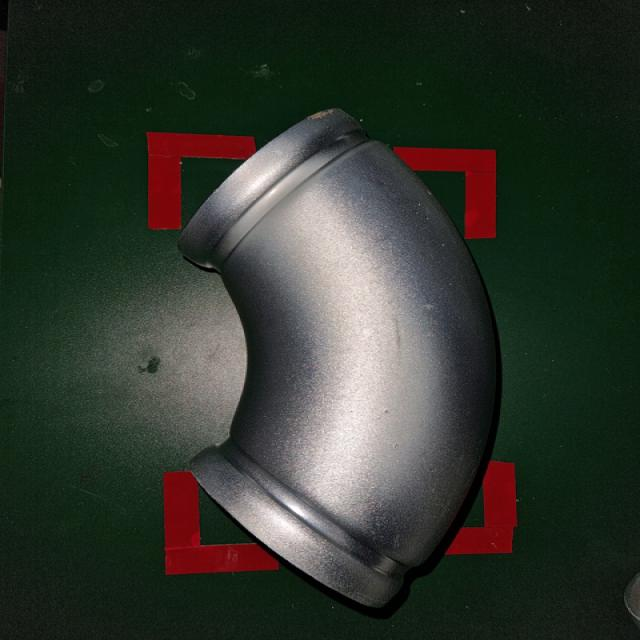Normal: (170, 100, 510, 622)
